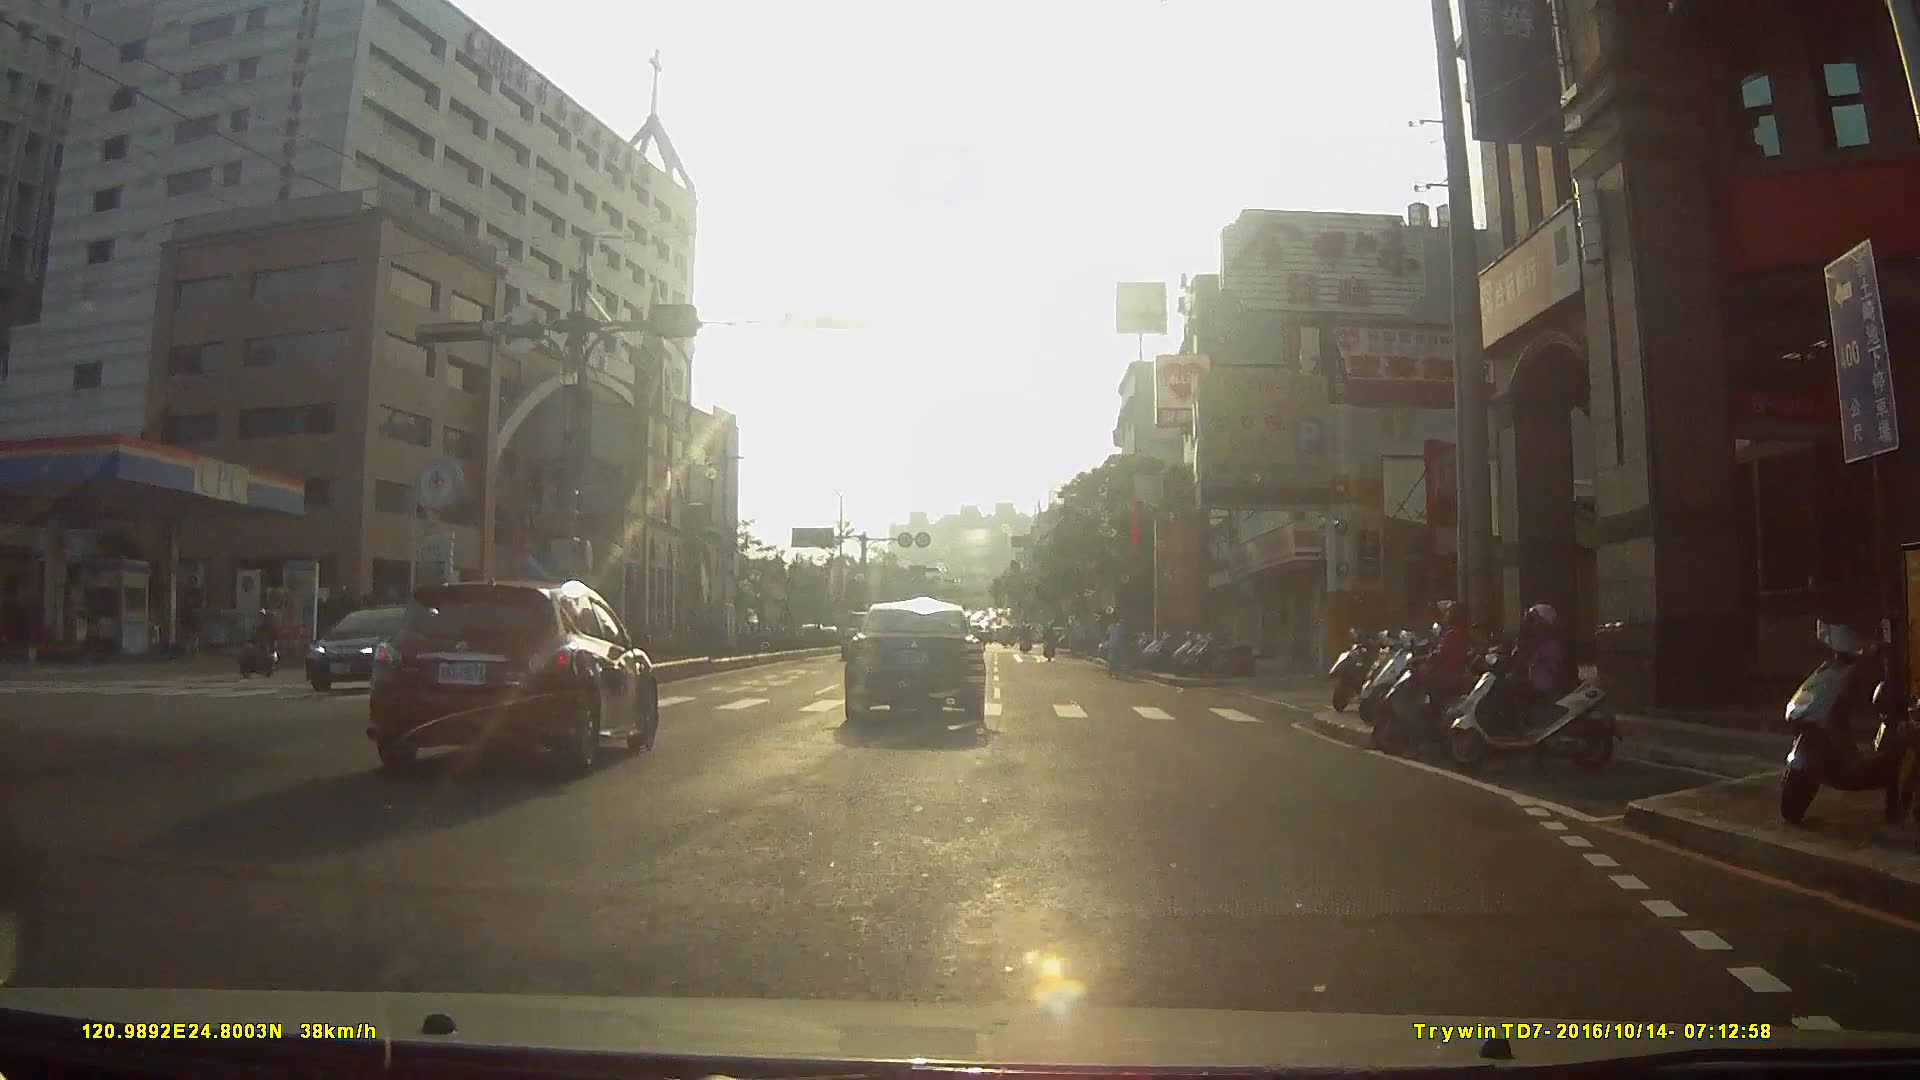rider: (1439, 601, 1625, 782), (1367, 600, 1518, 763), (239, 605, 284, 679), (1104, 615, 1131, 682)
vehicle: (369, 579, 667, 795), (289, 602, 485, 709), (850, 610, 1002, 745), (763, 607, 822, 662)
